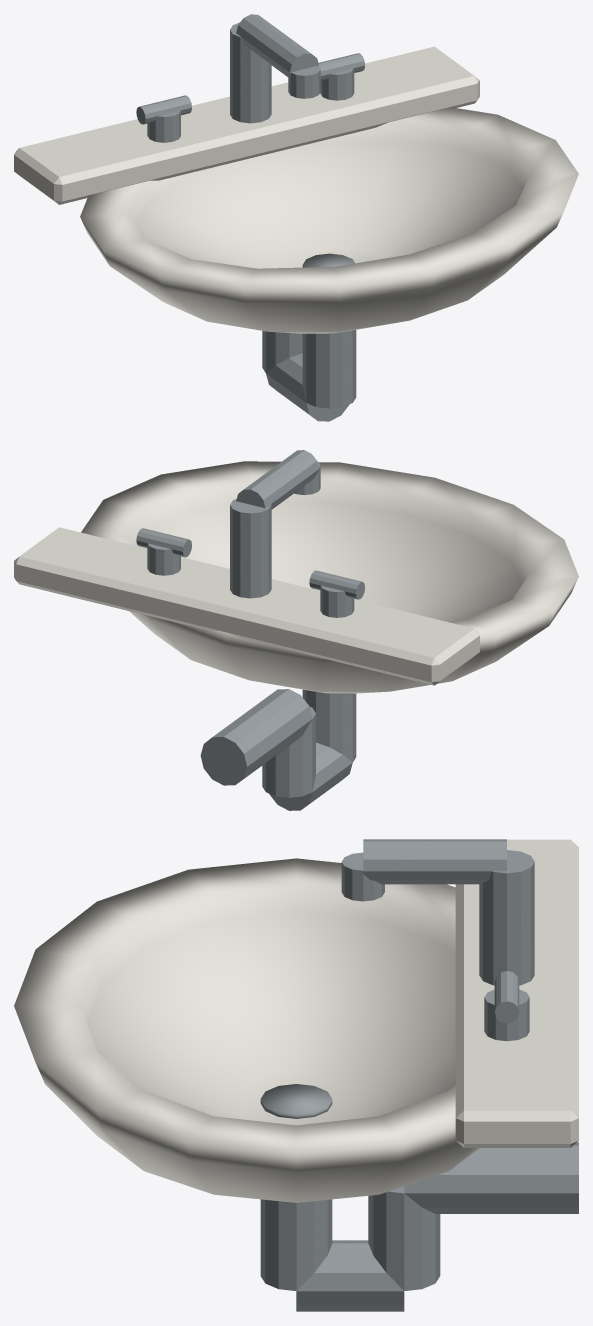
Rendered from restroom_sink.glb.
3 renders of one model, top to bottom at view 1: azimuth 30°, elevation 25°; view 2: azimuth 150°, elevation 25°; view 3: azimuth 270°, elevation 25°, orthographic. The views are drawn at different scales.
Parts seen in each view (by area): view 1: restroom_sink; view 2: restroom_sink; view 3: restroom_sink.
Part boxes in pixels (bbox=[...]): restroom_sink: bbox=[14, 14, 578, 421]; restroom_sink: bbox=[14, 450, 578, 810]; restroom_sink: bbox=[14, 839, 578, 1311].
Size of the model in its own units: 0.68 by 0.502 by 0.55.
Materials: 2 (2 with a texture image).
